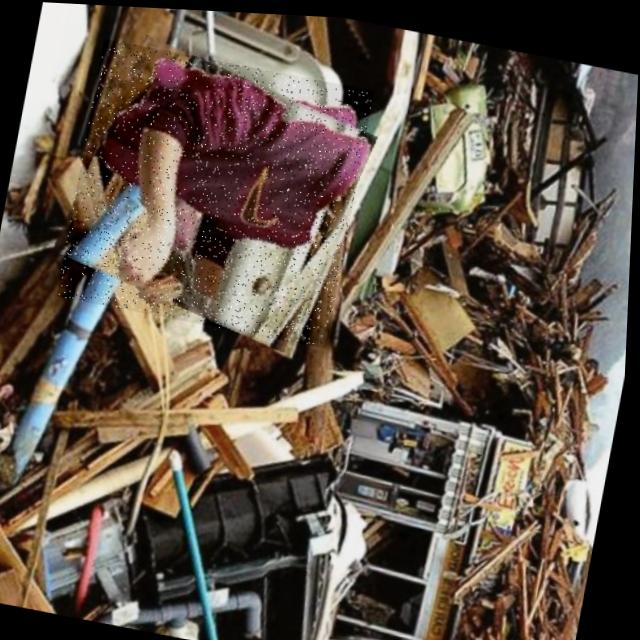Person in Rubble: (56, 36, 375, 346)
